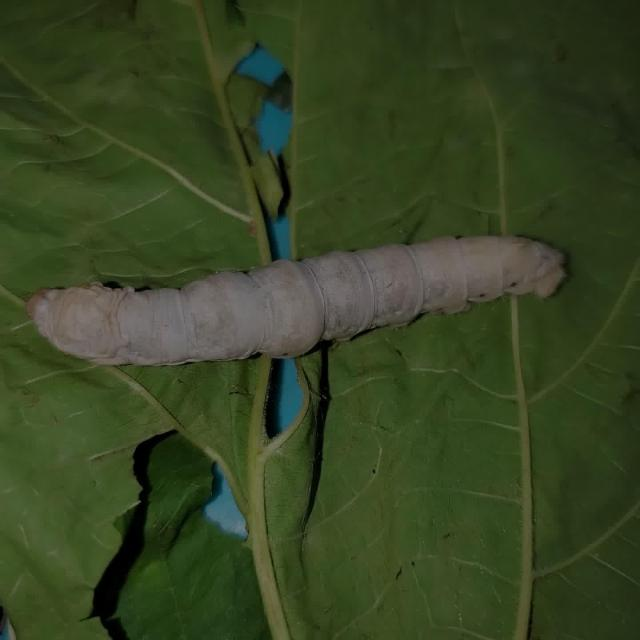Grasserie: (17, 211, 576, 372)
